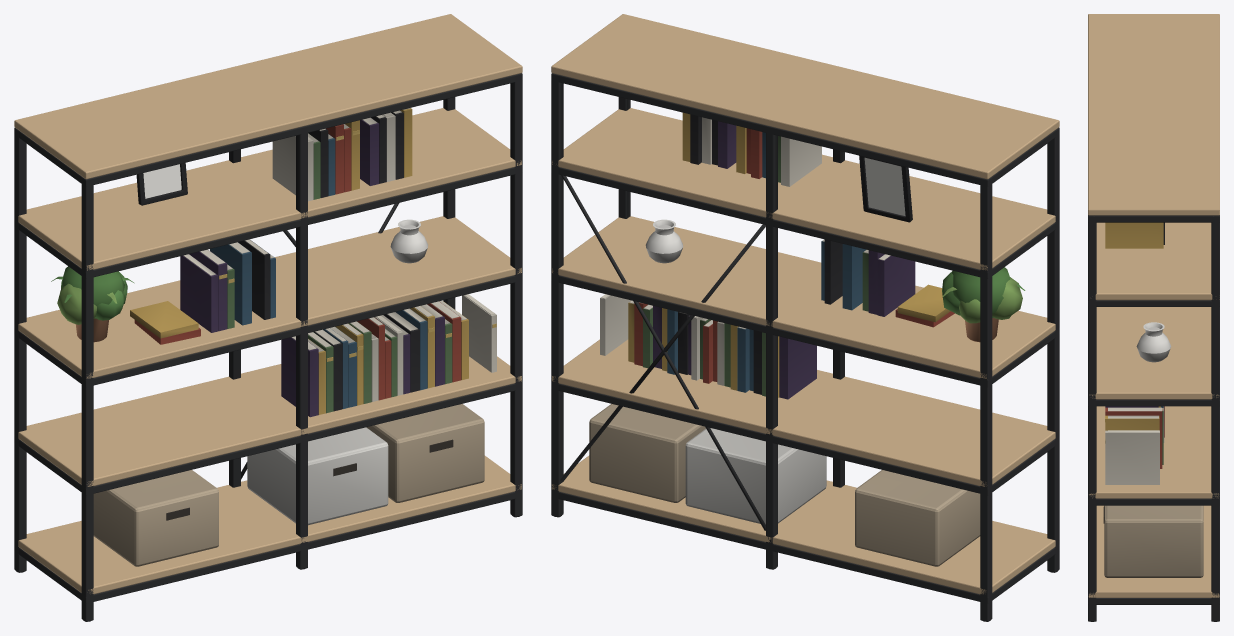
The model's file is shelvingIndustrial.glb.
3 views of the same model, side by side, from view 1: azimuth 30°, elevation 25°; view 2: azimuth 150°, elevation 25°; view 3: azimuth 270°, elevation 25° (orthographic). The views are drawn at different scales.
Visible parts, largest first — view 1: shelvingIndustrial; view 2: shelvingIndustrial; view 3: shelvingIndustrial.
Part boxes in pixels (box(x1,y1,x2,y2)): shelvingIndustrial: box(14, 14, 522, 621); shelvingIndustrial: box(551, 14, 1059, 621); shelvingIndustrial: box(1088, 14, 1219, 621).
Bounding box in the file's own units: 1.86 × 1.83 × 0.53.
